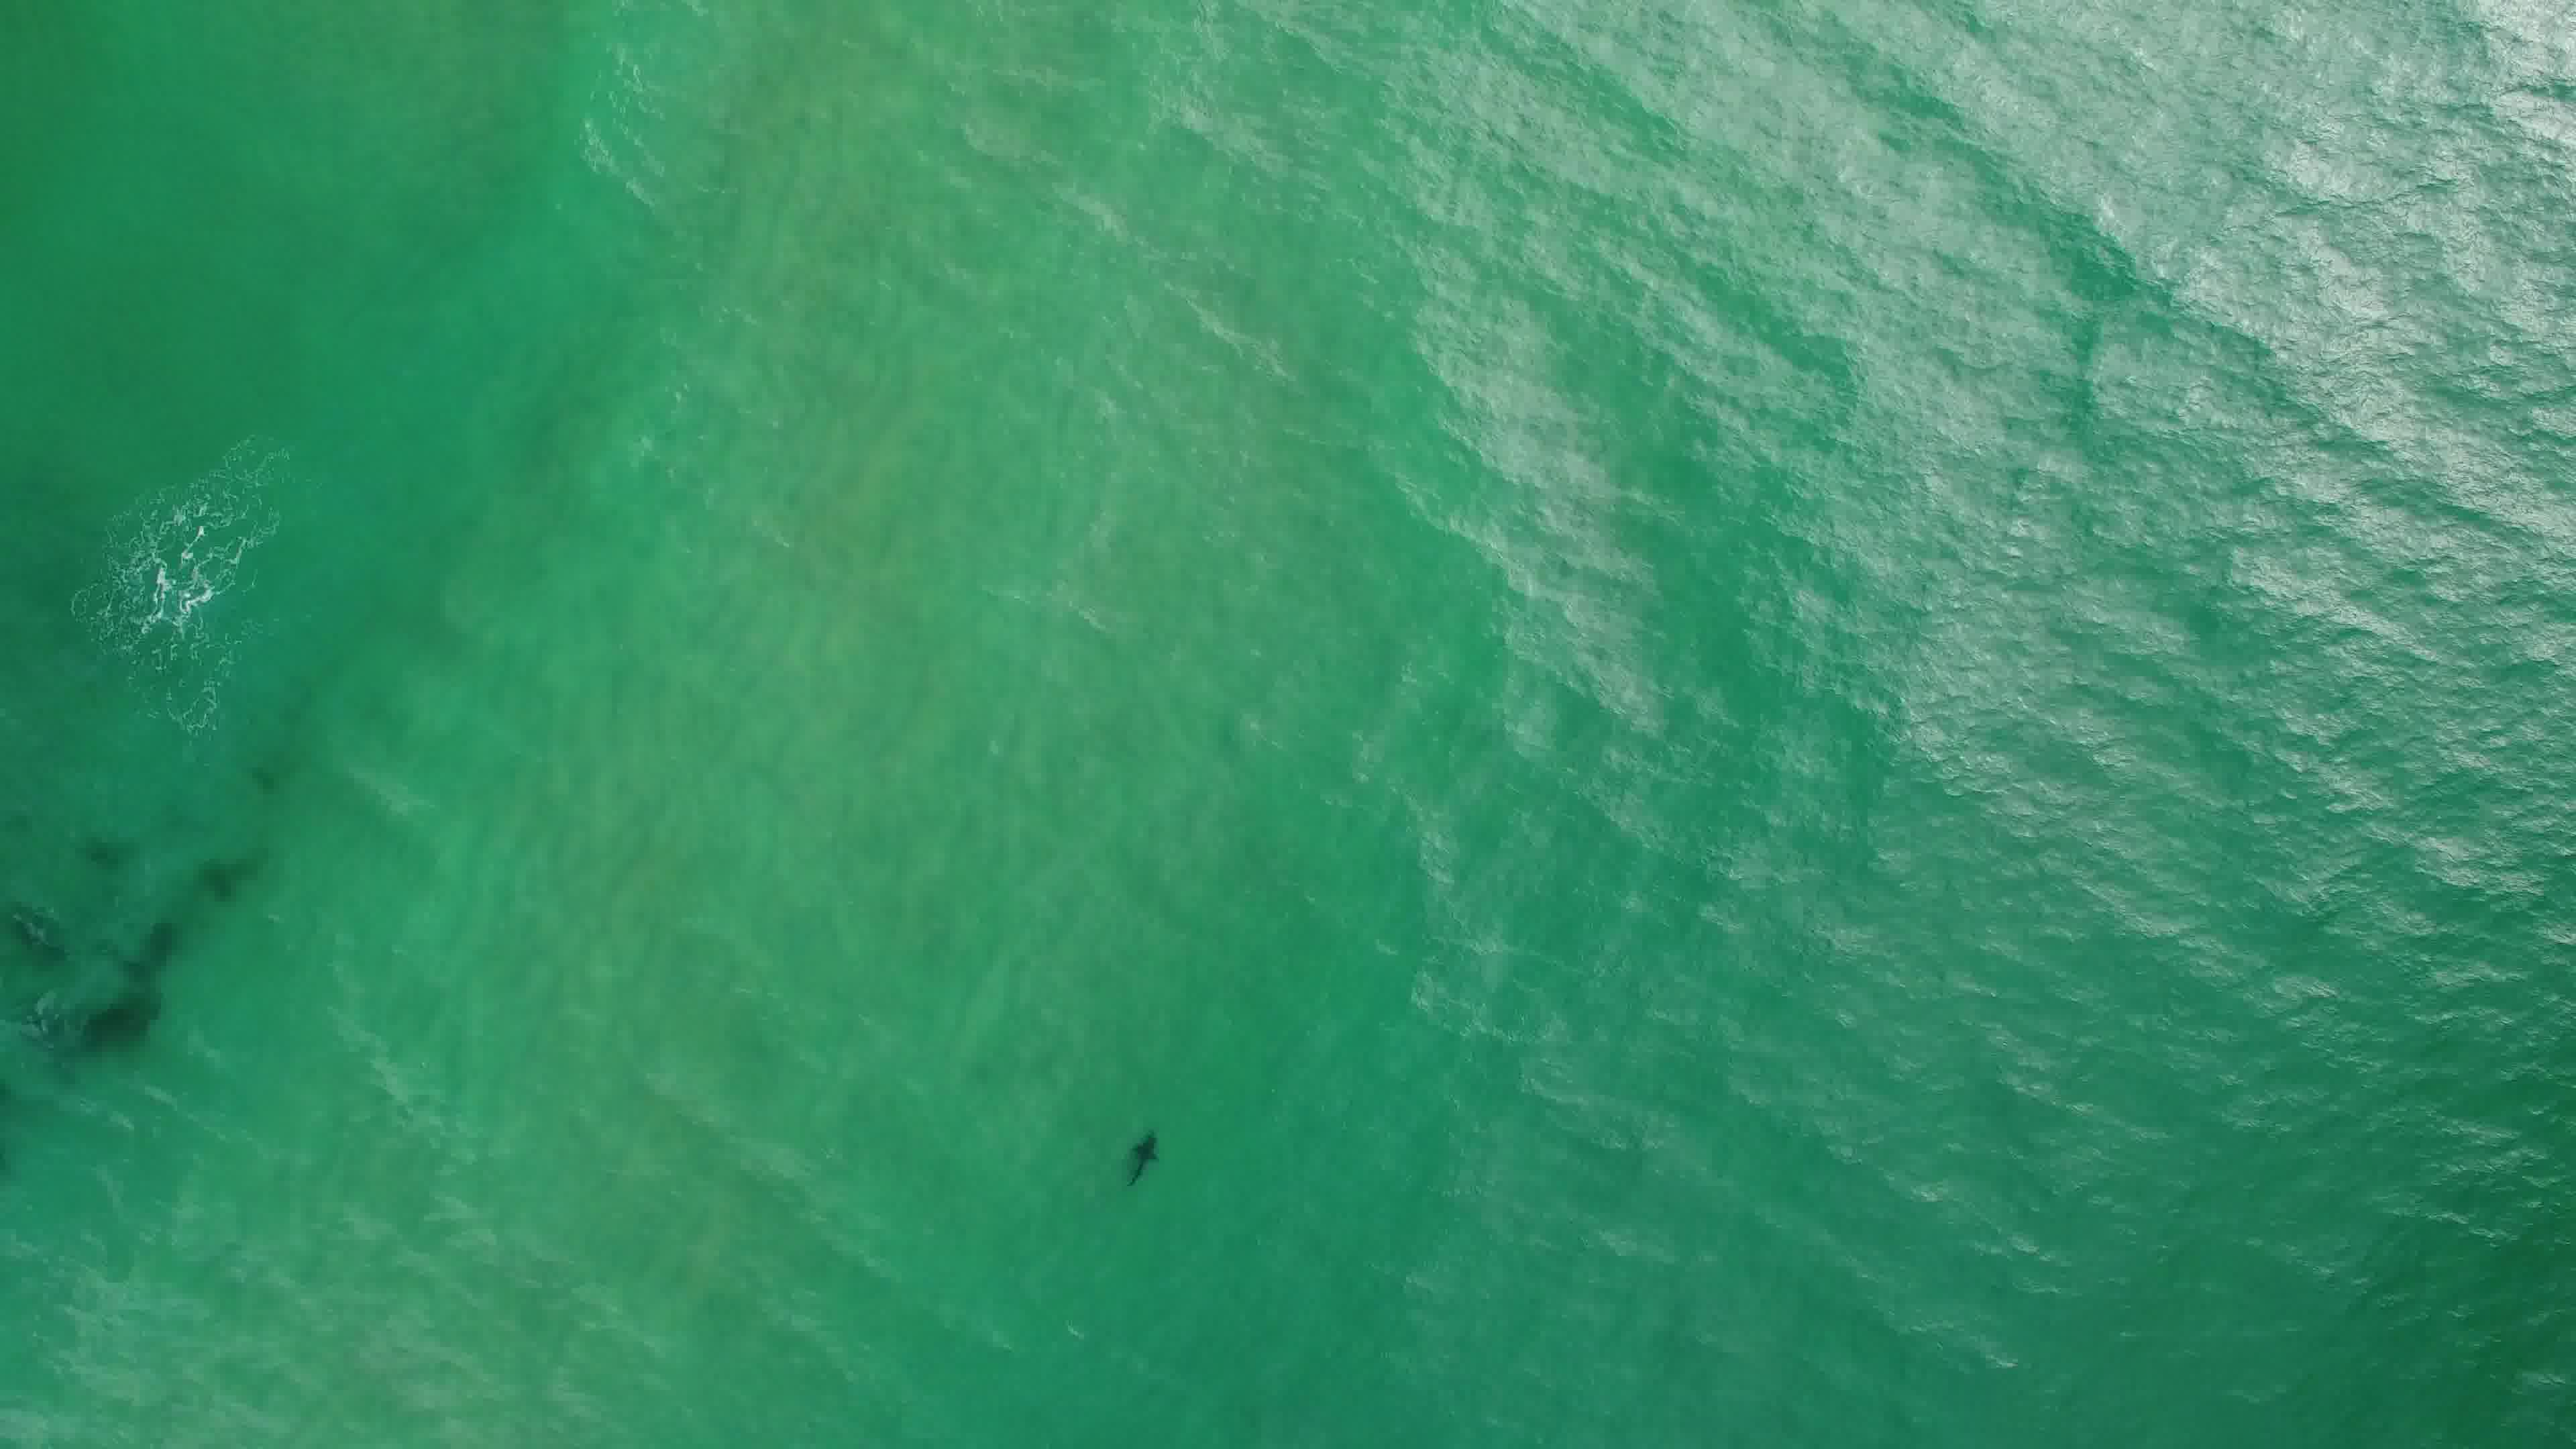shark: (1116, 1127, 1166, 1196)
